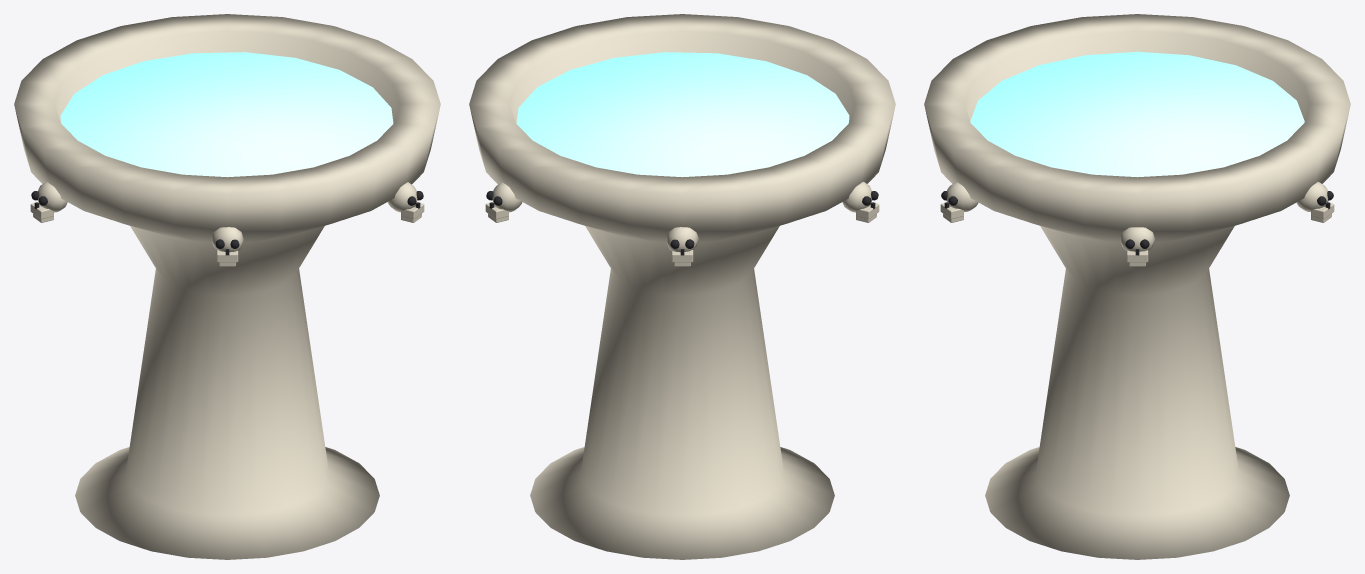
File: font_bone_font.glb
The picture shows the model from 3 angles, left to right: view 1: azimuth 30°, elevation 25°; view 2: azimuth 150°, elevation 25°; view 3: azimuth 270°, elevation 25°; orthographic projection.
Visible parts, largest first — view 1: GD_font_bone_font__m0, GD_font_bone_font__m1, GD_font_bone_font__m2; view 2: GD_font_bone_font__m0, GD_font_bone_font__m1, GD_font_bone_font__m2; view 3: GD_font_bone_font__m0, GD_font_bone_font__m1, GD_font_bone_font__m2.
Boxes of the visible parts, box(x1,y1,x2,y2) form: GD_font_bone_font__m0: box(14, 14, 440, 559); GD_font_bone_font__m1: box(60, 52, 393, 177); GD_font_bone_font__m2: box(31, 191, 423, 255); GD_font_bone_font__m0: box(469, 14, 895, 559); GD_font_bone_font__m1: box(516, 52, 849, 177); GD_font_bone_font__m2: box(486, 191, 878, 255); GD_font_bone_font__m0: box(924, 14, 1350, 559); GD_font_bone_font__m1: box(970, 51, 1304, 177); GD_font_bone_font__m2: box(941, 191, 1333, 255).
Bounding box in the file's own units: 0.8732 × 0.85 × 0.84.
